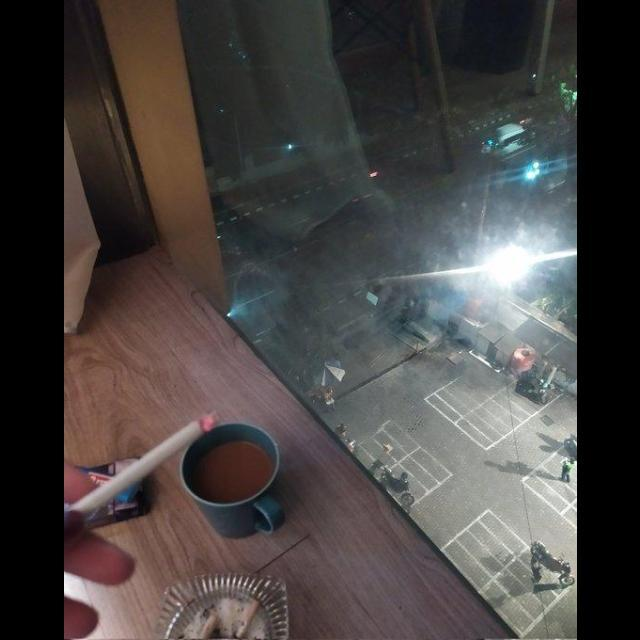rokok: (66, 409, 222, 527)
